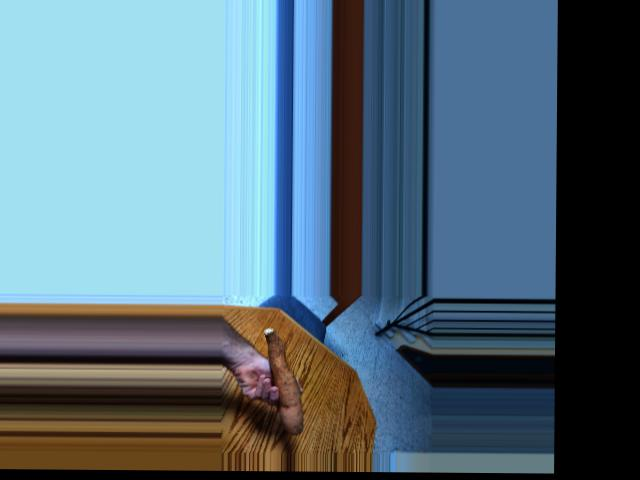sweet_potato: (261, 330, 310, 430)
